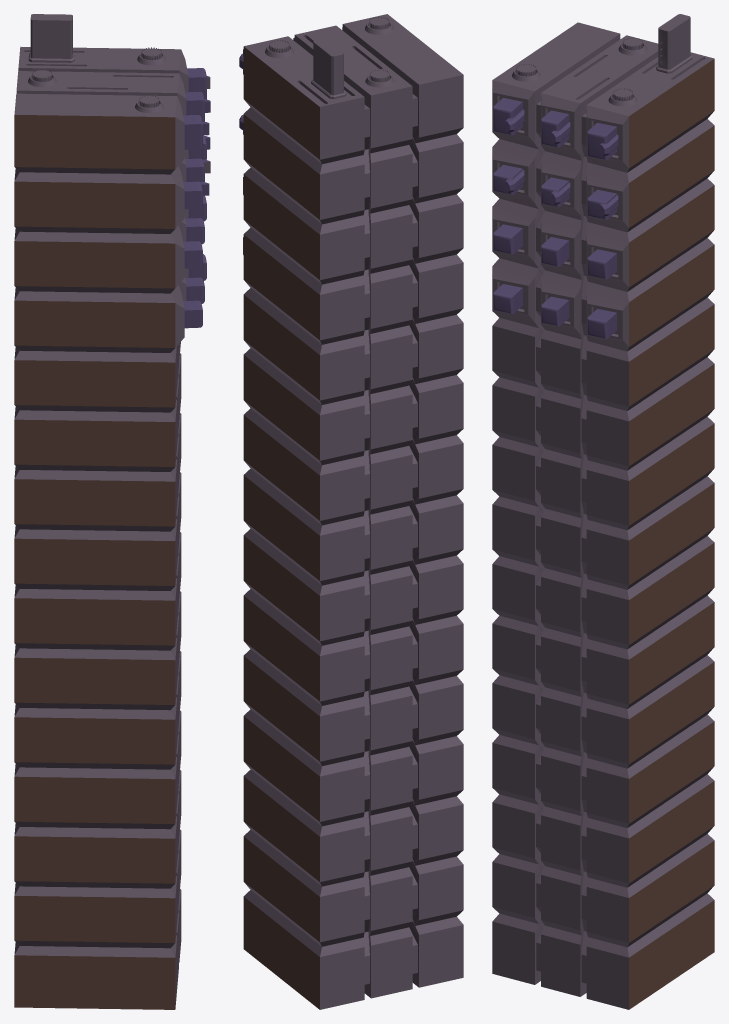
Rendered from nbox1.fbx.
The picture shows the model from 3 angles, left to right: view 1: azimuth 30°, elevation 25°; view 2: azimuth 150°, elevation 25°; view 3: azimuth 270°, elevation 25°; orthographic projection.
Visible parts, largest first — view 1: 最左边次要烟囱; view 2: 最左边次要烟囱; view 3: 最左边次要烟囱.
Part boxes in pixels (x1,y1,x2,y2): 最左边次要烟囱: (14, 14, 210, 1009); 最左边次要烟囱: (239, 14, 463, 1009); 最左边次要烟囱: (492, 14, 714, 1009).
Bounding box in the file's own units: 149 × 636 × 137.
